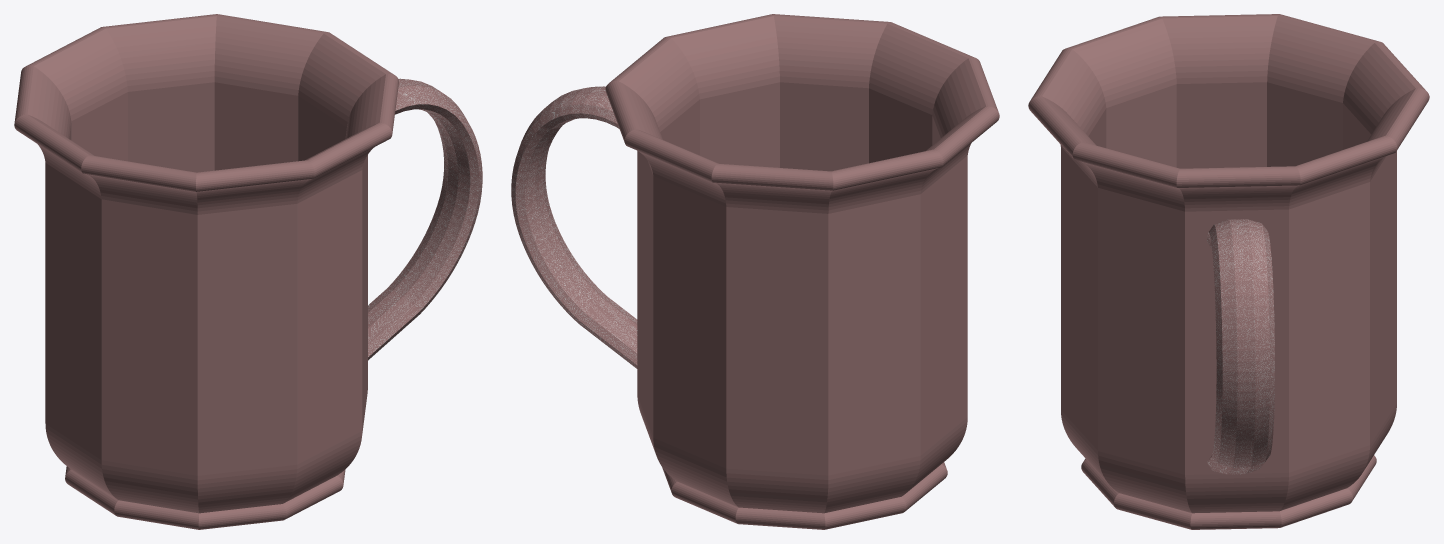
3 views of the same model, side by side, from view 1: azimuth 30°, elevation 25°; view 2: azimuth 150°, elevation 25°; view 3: azimuth 270°, elevation 25° (orthographic).
Parts seen in each view (by area): view 1: mesh3.001_mesh3-geometry, mesh1.001_mesh1-geometry; view 2: mesh3.001_mesh3-geometry, mesh1.001_mesh1-geometry; view 3: mesh3.001_mesh3-geometry, mesh1.001_mesh1-geometry.
Boxes of the visible parts, x1,y1,x2,y2 form: mesh3.001_mesh3-geometry: (14,14,398,529); mesh1.001_mesh1-geometry: (368,78,482,360); mesh3.001_mesh3-geometry: (605,14,999,529); mesh1.001_mesh1-geometry: (511,86,637,368); mesh3.001_mesh3-geometry: (1028,14,1429,529); mesh1.001_mesh1-geometry: (1207,219,1274,474).
Size of the model in its own units: 0.664 by 0.5403 by 0.5168.
